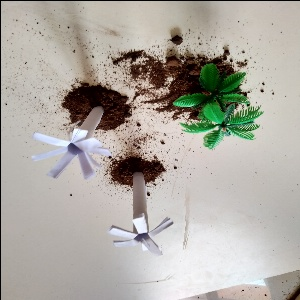plant: (167, 60, 265, 151)
weed: (26, 112, 108, 194), (102, 195, 185, 268)
